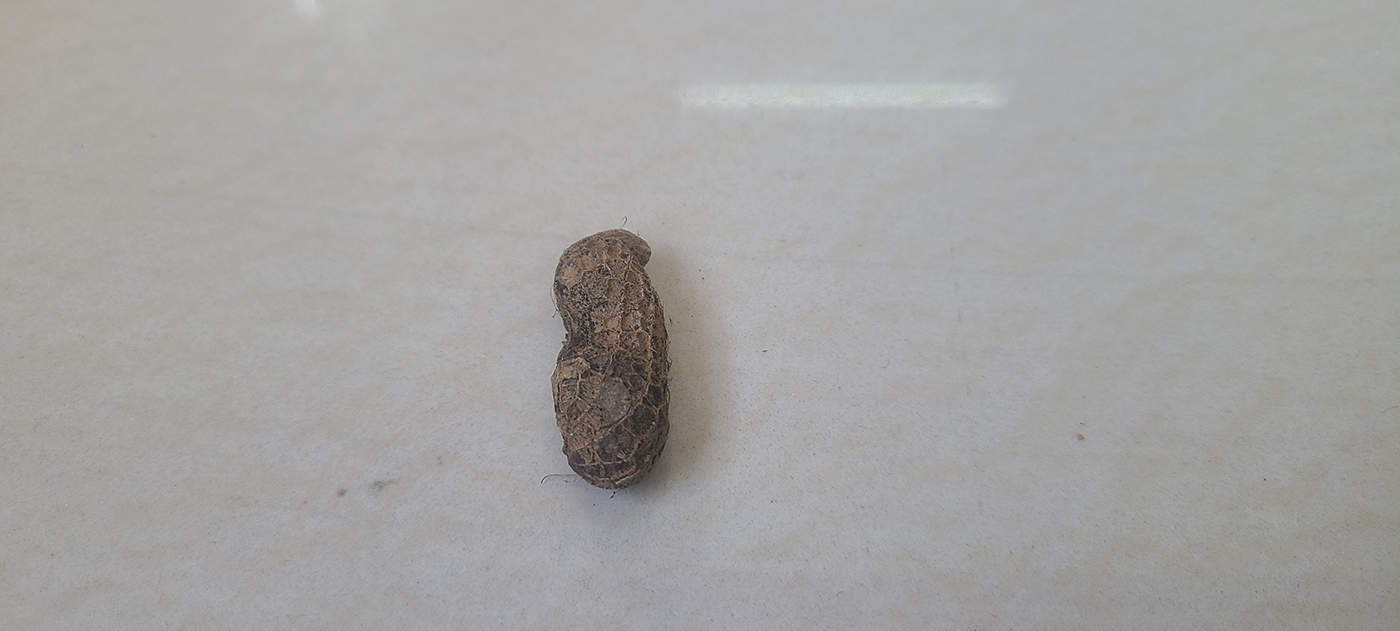l: (550, 227, 672, 491)
